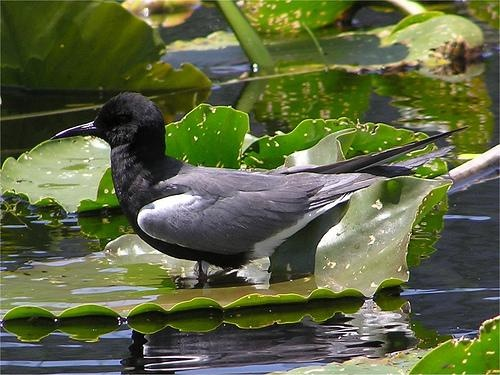bird: (46, 92, 472, 286)
